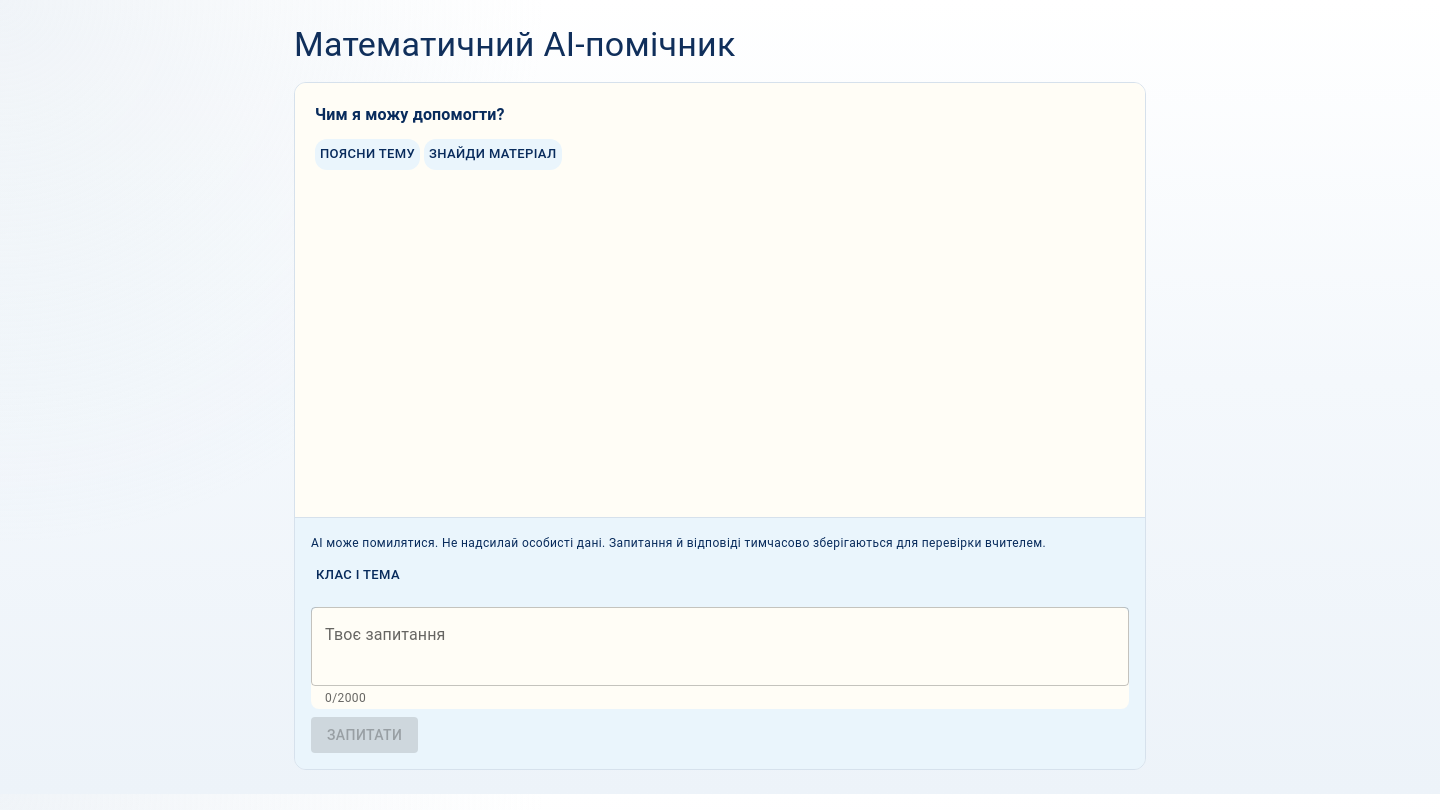
Test case: AssistantPage › prevents duplicates while pending and shows actual source links
The image size is (1440, 810).
Type "Поясни похідну" into the text box labelled "Твоє запитання" at {"x": 720, "y": 647}, box [325,624,1115,670]
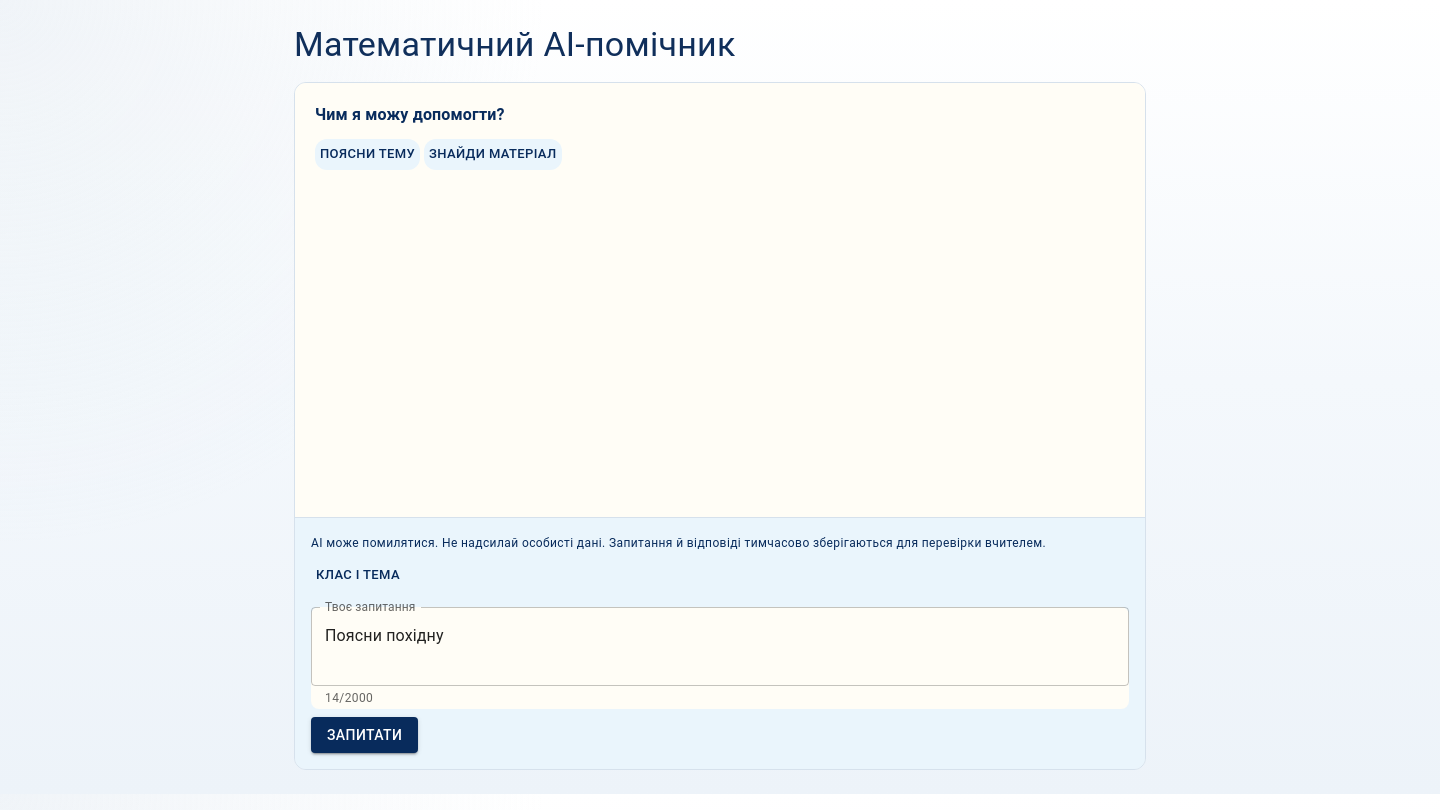
Click the button "Запитати" at {"x": 365, "y": 735}, box [311,717,418,754]
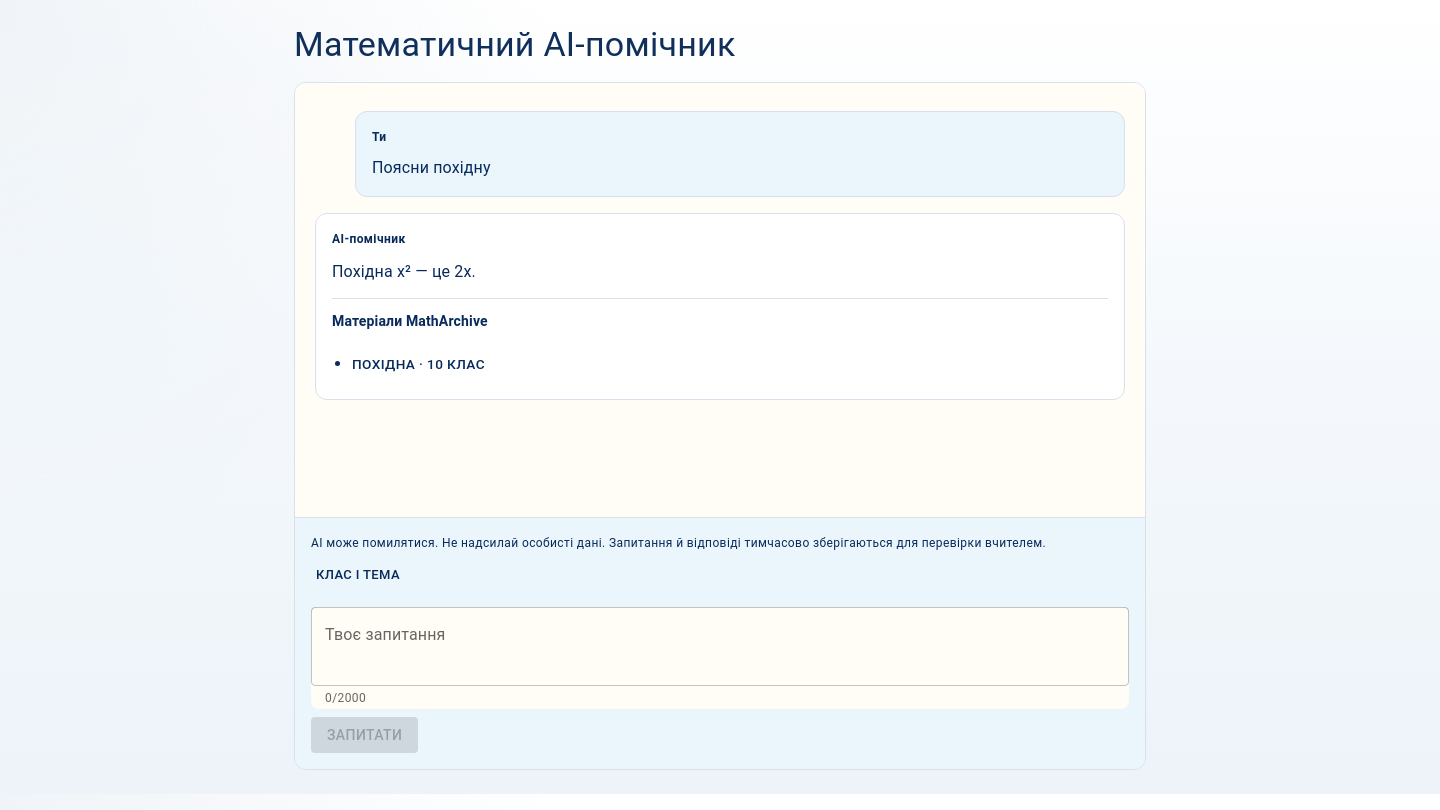
Now the button named "Думаю…" is disabled, box [311,717,418,754]
Now the text "Похідна x² — це 2x." is shown, box [332,262,476,281]
